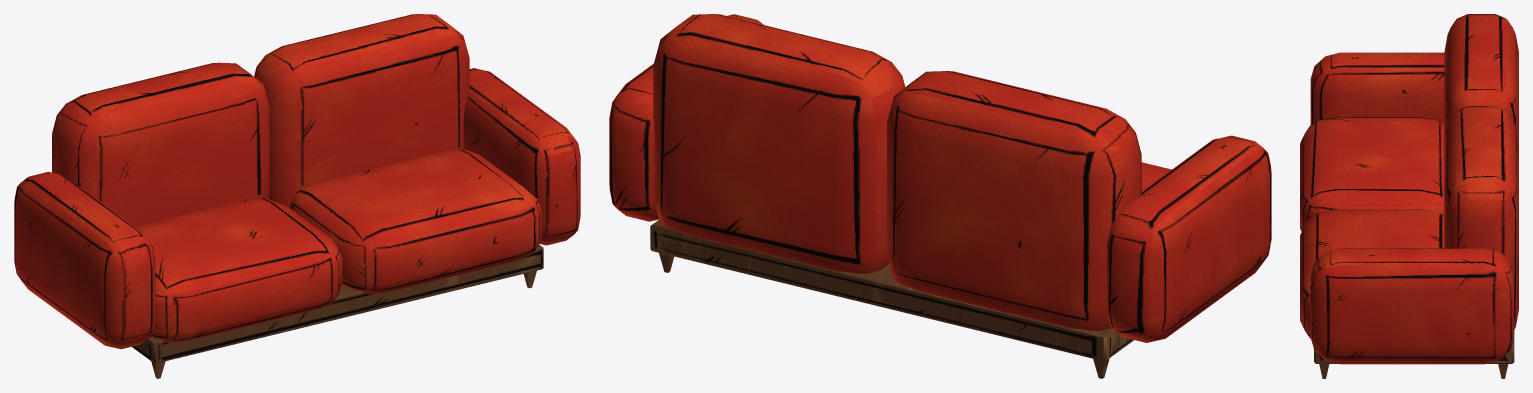
Rendered from Sofa_A.glb.
3 renders of one model, left to right at view 1: azimuth 30°, elevation 25°; view 2: azimuth 150°, elevation 25°; view 3: azimuth 270°, elevation 25°, orthographic. The views are drawn at different scales.
Visible parts, largest first — view 1: Sofa A; view 2: Sofa A; view 3: Sofa A.
Boxes of the visible parts, left/top/right/bottom form: Sofa A: left=14, top=14, right=580, bottom=378; Sofa A: left=609, top=14, right=1271, bottom=378; Sofa A: left=1300, top=14, right=1518, bottom=378.
Bounding box in the file's own units: 10.4 × 4.4 × 4.37.
Materials: 1 (1 with a texture image).
